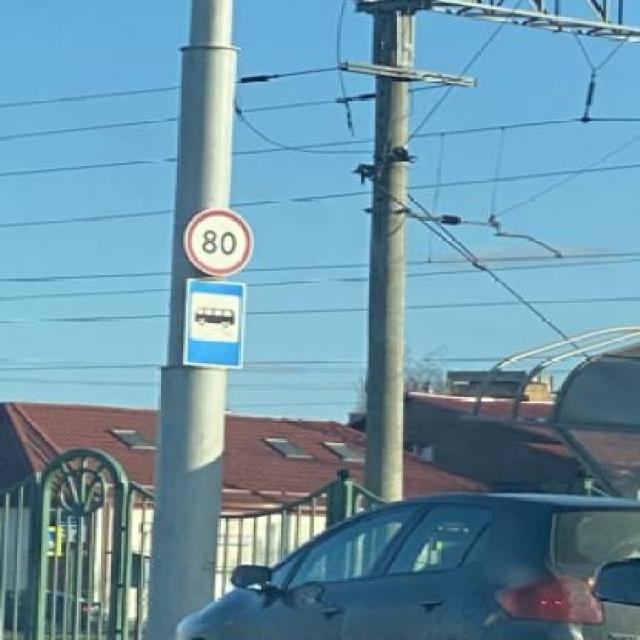forb_speed_over_80: (182, 207, 256, 276)
